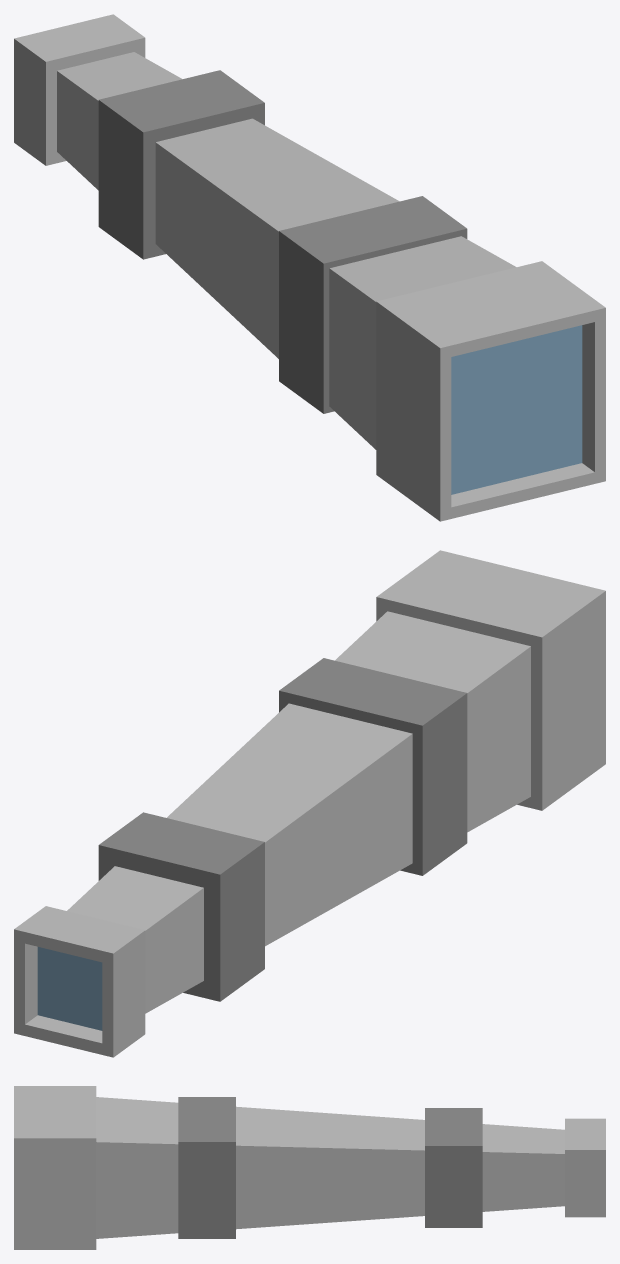
File: rangefinder.gltf
3 views of the same model, one above another, from view 1: azimuth 30°, elevation 25°; view 2: azimuth 150°, elevation 25°; view 3: azimuth 270°, elevation 25° (orthographic). The views are drawn at different scales.
Visible parts, largest first — view 1: rangefinder; view 2: rangefinder; view 3: rangefinder.
Boxes of the visible parts, left/top/right/bottom form: rangefinder: left=14, top=14, right=605, bottom=521; rangefinder: left=14, top=550, right=605, bottom=1057; rangefinder: left=14, top=1086, right=605, bottom=1249.
Size of the model in its own units: 0.155 by 0.155 by 0.7439.
